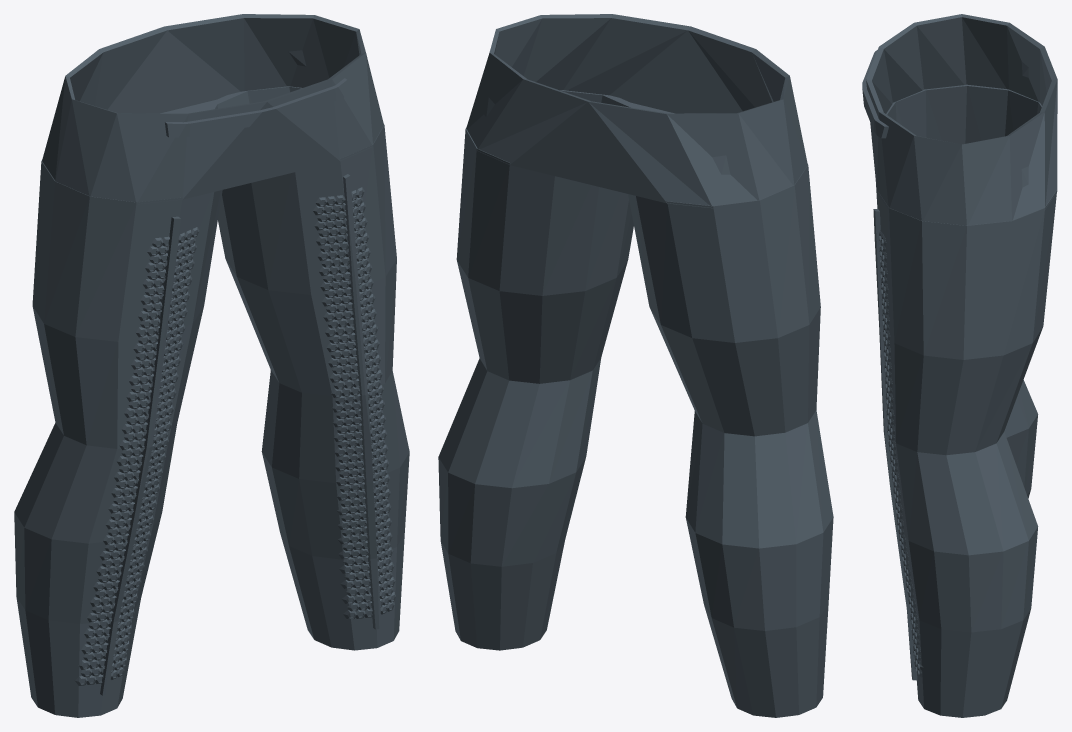
The model's file is chain_legs-male.glb.
3 views of the same model, side by side, from view 1: azimuth 30°, elevation 25°; view 2: azimuth 150°, elevation 25°; view 3: azimuth 270°, elevation 25° (orthographic). The views are drawn at different scales.
Visible parts, largest first — view 1: chain trouser leg -1, chain trouser leg 1, chain trouser pelvis yoke, chain woven coverage on chain trouser leg 1, chain woven coverage on chain trouser leg -1, Trouser reinforced front seam -1, Trouser reinforced front seam 1, Trouser waist facing; view 2: chain trouser leg -1, chain trouser leg 1, chain trouser pelvis yoke; view 3: chain trouser leg 1, chain trouser pelvis yoke, chain trouser leg -1, chain woven coverage on chain trouser leg 1, Trouser reinforced front seam 1, Trouser waist facing.
Boxes of the visible parts, x1=… form: chain trouser leg -1: x1=14, y1=160, x2=222, y2=717; chain trouser leg 1: x1=206, y1=86, x2=409, y2=650; chain trouser pelvis yoke: x1=42, y1=14, x2=383, y2=204; chain woven coverage on chain trouser leg 1: x1=313, y1=187, x2=395, y2=619; chain woven coverage on chain trouser leg -1: x1=75, y1=227, x2=199, y2=685; Trouser reinforced front seam -1: x1=100, y1=216, x2=180, y2=695; Trouser reinforced front seam 1: x1=343, y1=174, x2=381, y2=629; Trouser waist facing: x1=165, y1=78, x2=348, y2=137; chain trouser leg -1: x1=628, y1=164, x2=833, y2=717; chain trouser leg 1: x1=438, y1=90, x2=640, y2=650; chain trouser pelvis yoke: x1=466, y1=14, x2=807, y2=208; chain trouser leg 1: x1=877, y1=190, x2=1056, y2=717; chain trouser pelvis yoke: x1=866, y1=14, x2=1057, y2=225; chain trouser leg -1: x1=886, y1=84, x2=1042, y2=498; chain woven coverage on chain trouser leg 1: x1=879, y1=230, x2=923, y2=677; Trouser reinforced front seam 1: x1=873, y1=209, x2=917, y2=680; Trouser waist facing: x1=862, y1=50, x2=888, y2=138.
Size of the model in its own units: 2.34 by 3.57 by 1.13.
